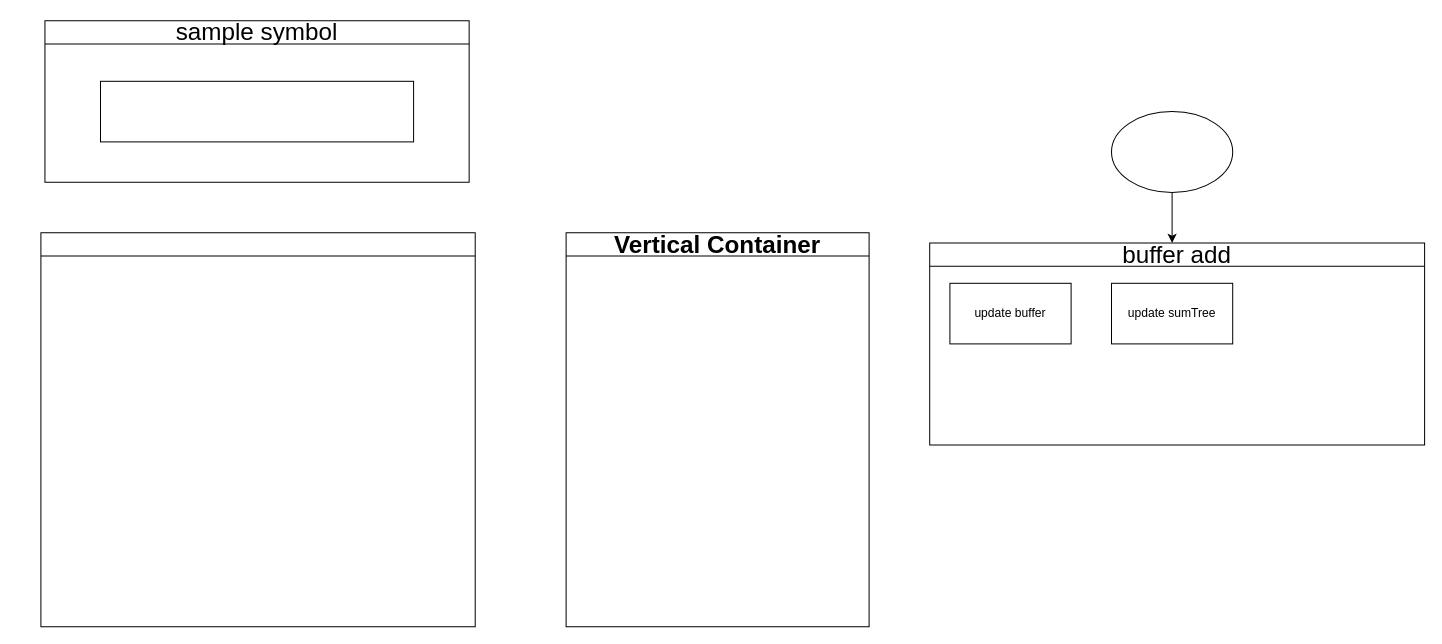
Image size: 1442x644. Some labels were removed from this diagram. The centre of each missing label's shape, as x and y in pixels:
"For symbol in Symbols" belongs at [256,111].
"PrioritizedStratifiedReplayBuffer" belongs at [257,429].
"Start" belongs at [1171,151].
